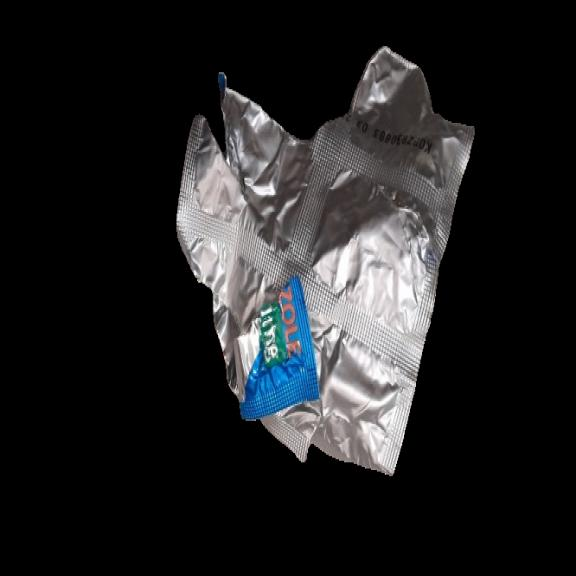Plastik: (176, 23, 479, 488)
